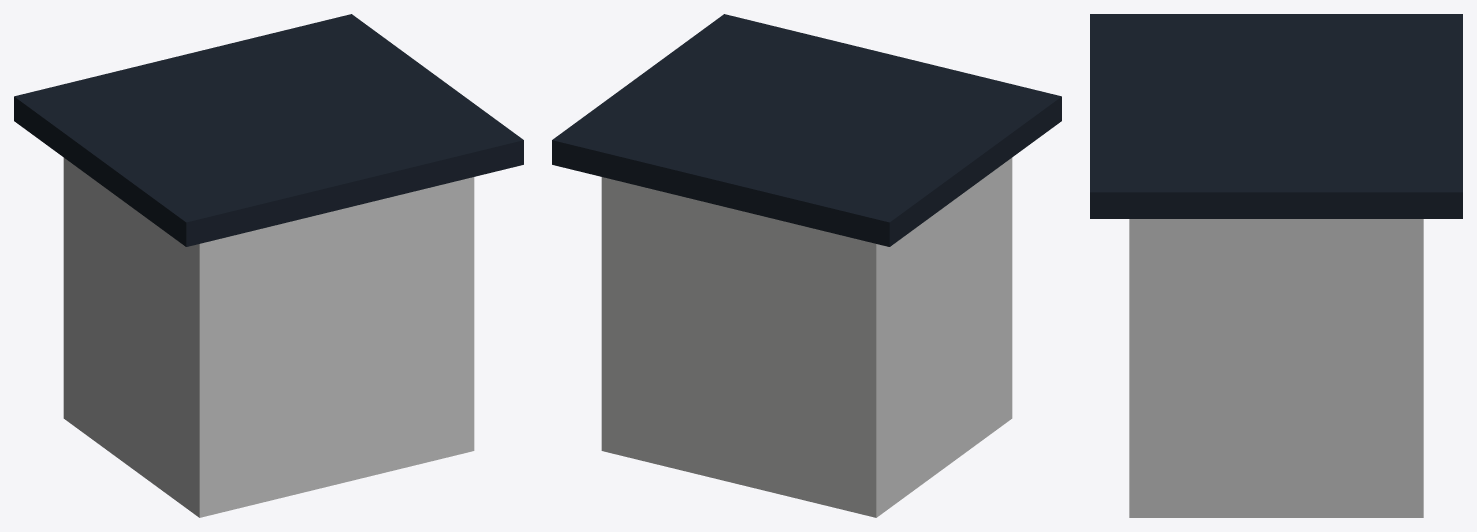
The model's file is checkpoint-booth-crafted-surface.glb.
3 renders of one model, left to right at view 1: azimuth 30°, elevation 25°; view 2: azimuth 150°, elevation 25°; view 3: azimuth 270°, elevation 25°, orthographic. The views are drawn at different scales.
Visible parts, largest first — view 1: Authored_surface_011; view 2: Authored_surface_011; view 3: Authored_surface_011.
Part boxes in pixels (<box>): Authored_surface_011: <box>14,14,523,517</box>; Authored_surface_011: <box>552,14,1061,517</box>; Authored_surface_011: <box>1090,14,1462,517</box>.
Bounding box in the file's own units: 1 × 0.8953 × 0.8837.
